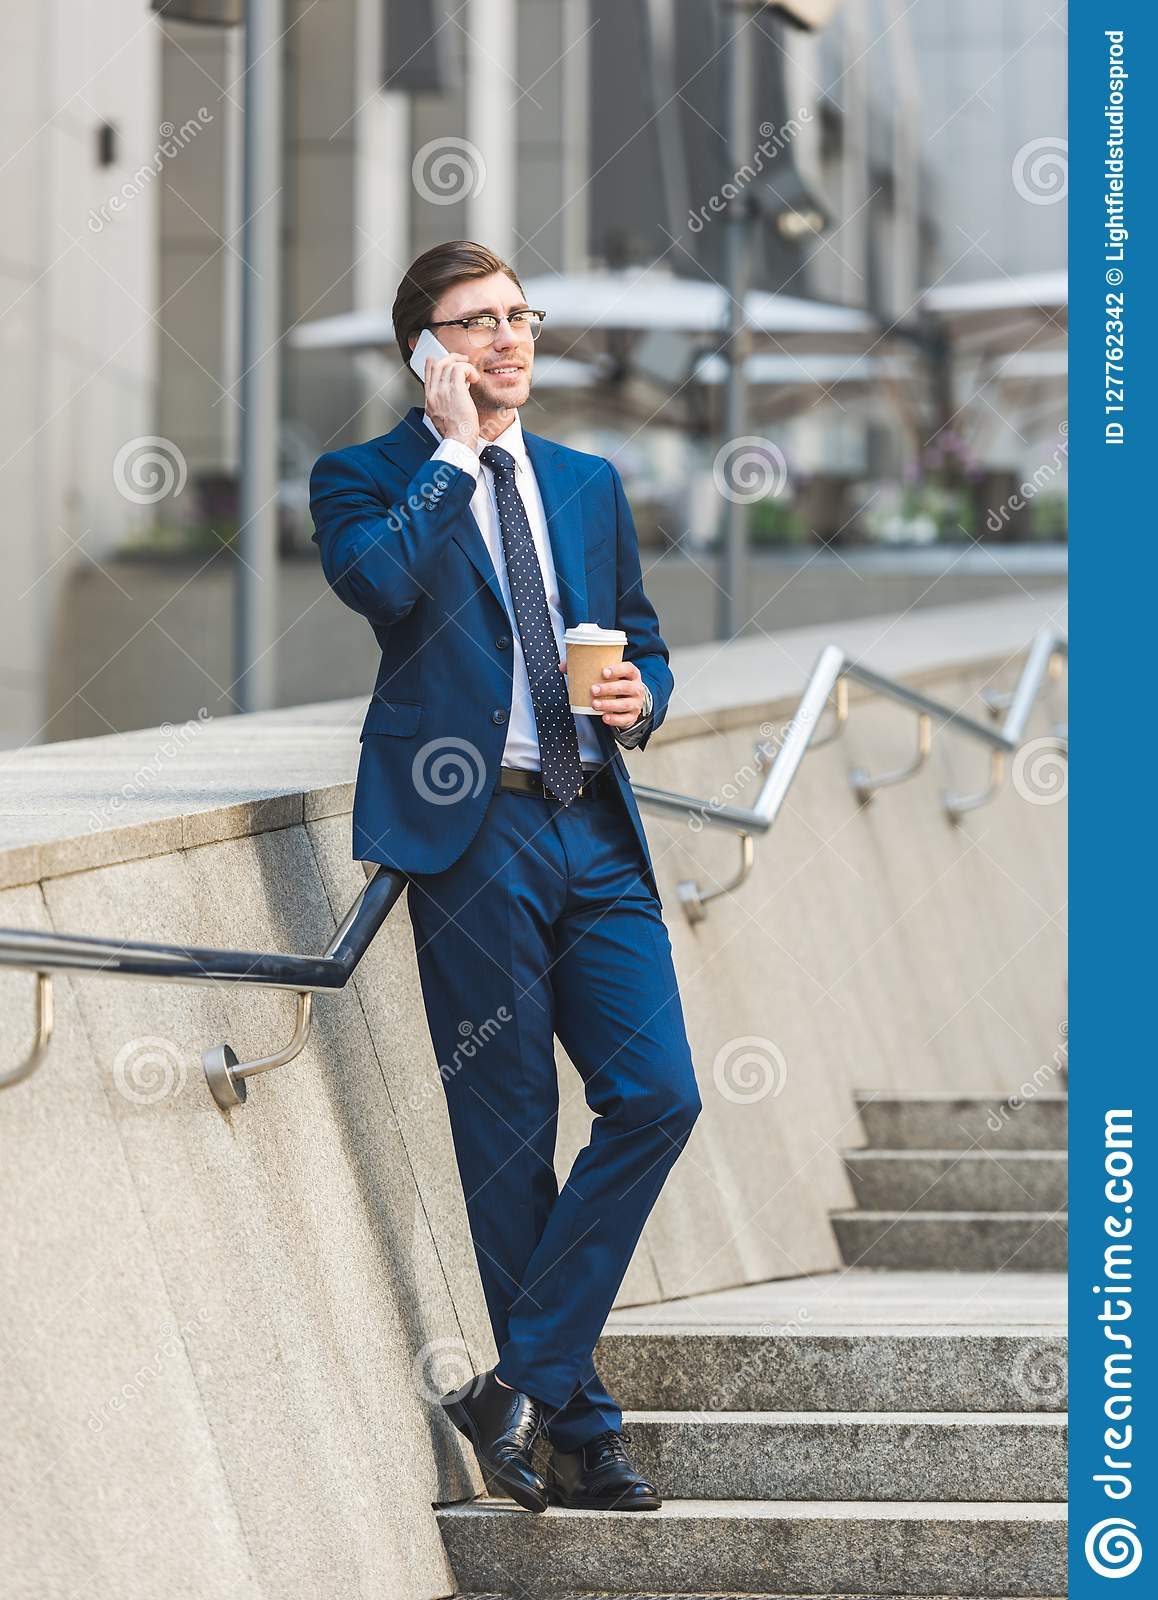phone: (408, 328, 473, 400)
talk: (408, 302, 538, 448)
